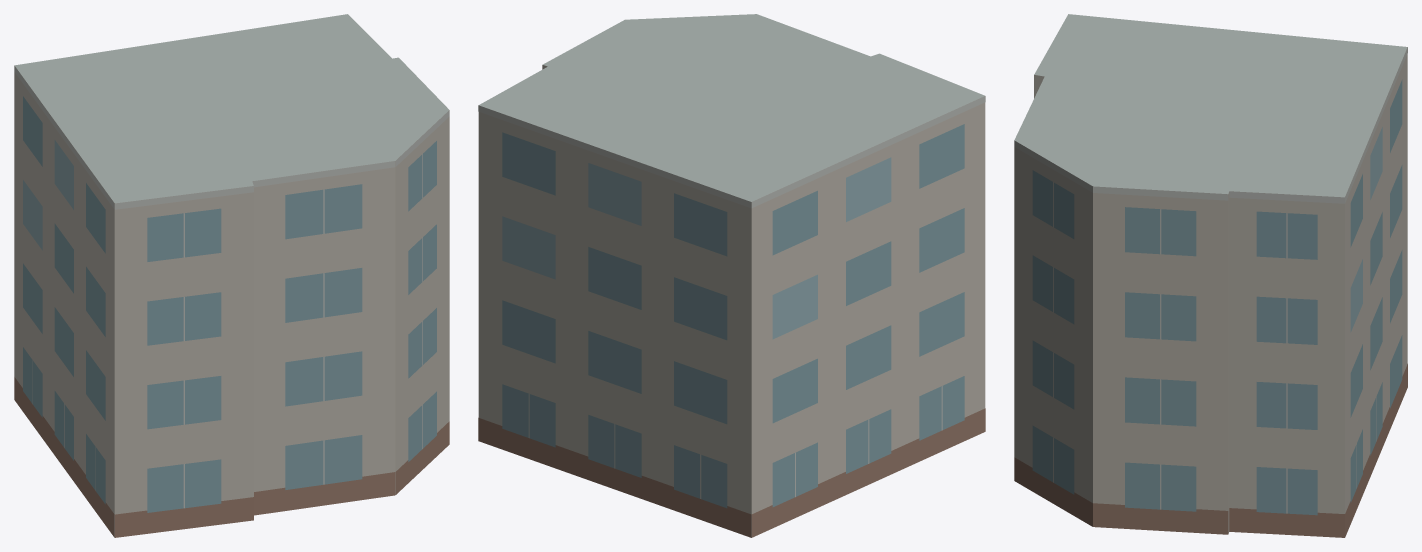
Rendered from survey-upis-33029057.glb.
3 renders of one model, left to right at view 1: azimuth 30°, elevation 25°; view 2: azimuth 150°, elevation 25°; view 3: azimuth 270°, elevation 25°, orthographic.
Visible parts, largest first — view 1: survey-upis-33029057.tmp; view 2: survey-upis-33029057.tmp; view 3: survey-upis-33029057.tmp.
Boxes of the visible parts, x1=… form: survey-upis-33029057.tmp: x1=14, y1=14, x2=449, y2=537; survey-upis-33029057.tmp: x1=478, y1=14, x2=985, y2=537; survey-upis-33029057.tmp: x1=1014, y1=14, x2=1407, y2=537.
Bounding box in the file's own units: 14.79 × 12.8 × 13.41.
